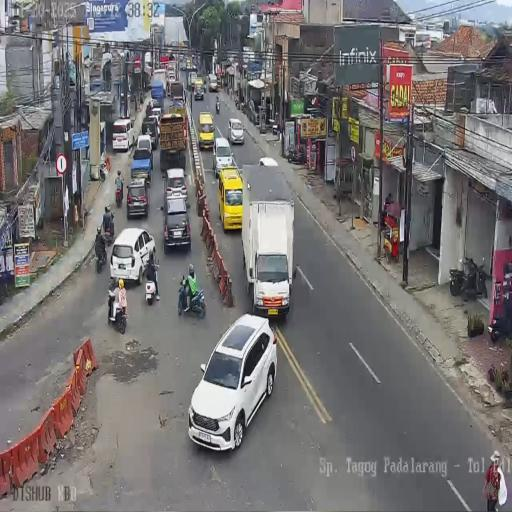3: (248, 184, 298, 321), (159, 109, 188, 172), (152, 68, 168, 100), (166, 64, 181, 96), (188, 71, 196, 92), (179, 55, 184, 69)
car: (186, 314, 276, 451), (109, 227, 156, 285), (162, 196, 192, 251), (218, 167, 243, 231), (126, 178, 150, 219), (212, 138, 234, 178), (112, 117, 136, 153), (130, 146, 152, 183), (198, 112, 215, 148), (228, 118, 244, 146), (148, 105, 162, 128), (194, 80, 204, 101), (208, 74, 218, 93), (185, 58, 192, 69)
truck: (450, 258, 488, 302), (177, 275, 205, 319), (489, 296, 512, 344), (107, 286, 128, 333), (145, 264, 160, 305), (286, 144, 305, 165), (95, 240, 107, 272), (103, 214, 115, 244), (115, 181, 123, 208), (272, 117, 280, 136), (216, 100, 220, 114)
